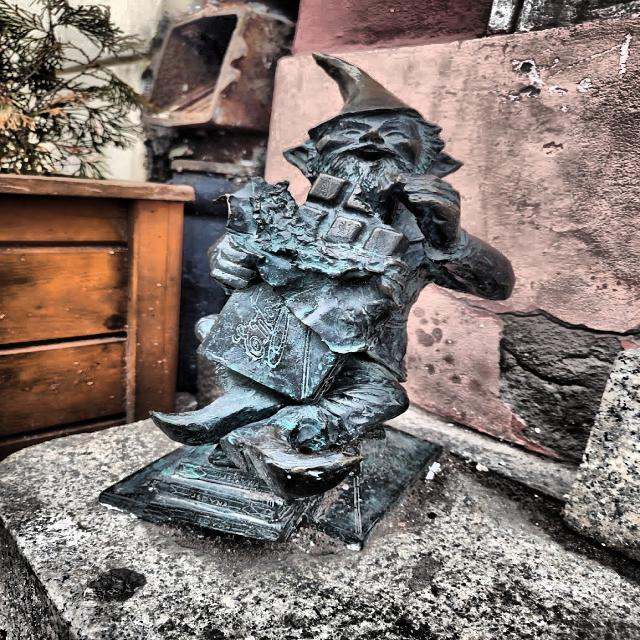Wedelek: (100, 55, 513, 546)
